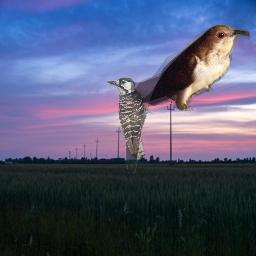Cuckoo: (131, 24, 250, 111)
Woodpecker: (106, 77, 155, 176)
